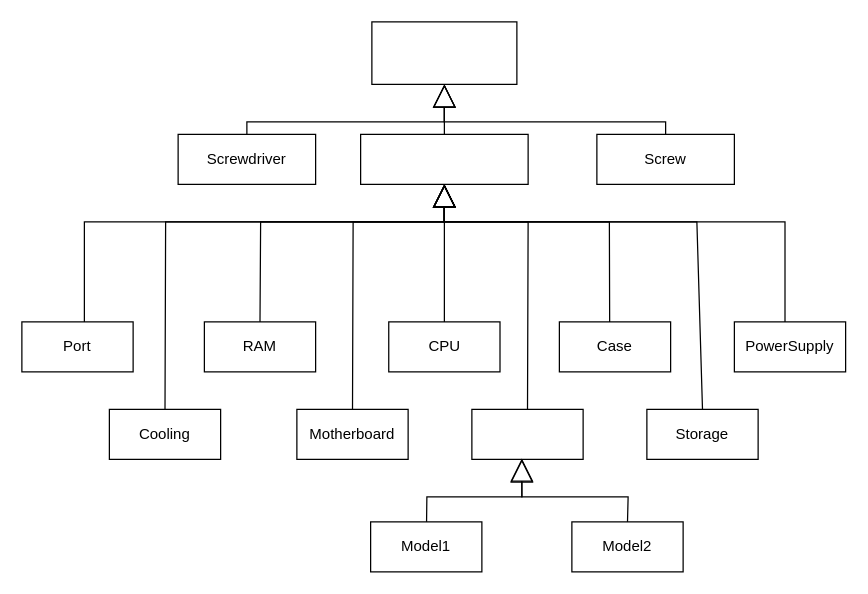
Some shapes in this 868 by 594 pixel diagram are drawn without their labels. The shapes that lost their labels are listed below. From the top down, each one's centre as x and y in pixels, then its label:
At point (444, 52): "HoldableObject".
At point (443, 158): "ComputerComponent".
At point (527, 433): "GPU".
